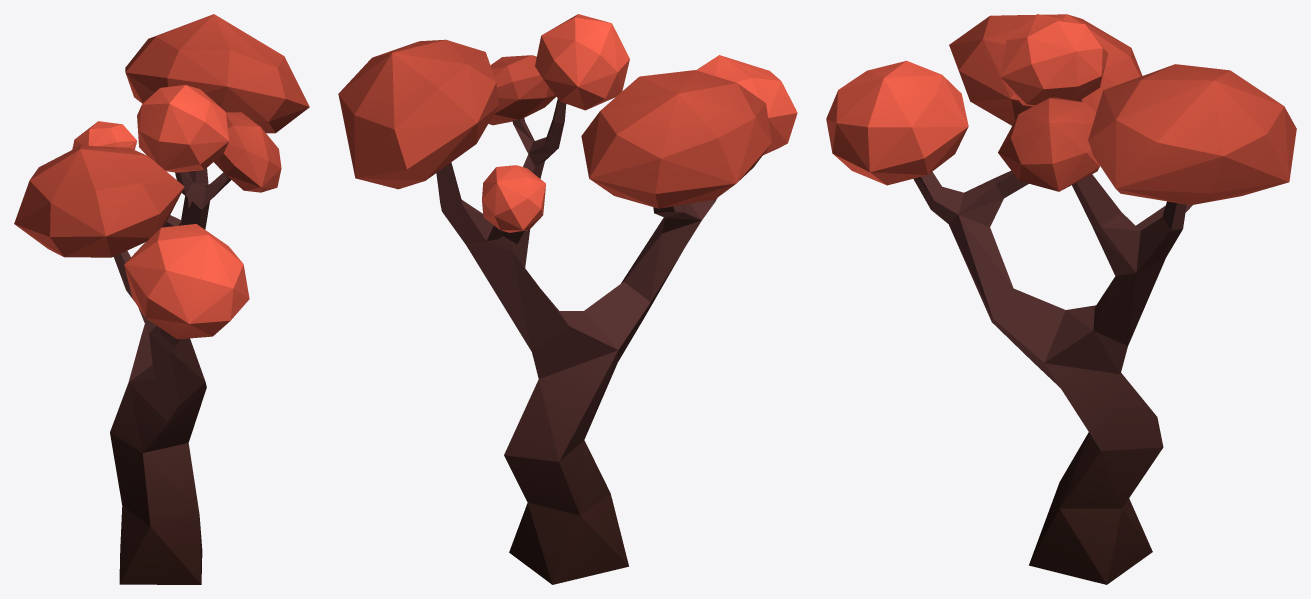
Rendered from RedTree4.fbx.
3 renders of one model, left to right at view 1: azimuth 30°, elevation 25°; view 2: azimuth 150°, elevation 25°; view 3: azimuth 270°, elevation 25°, orthographic. The views are drawn at different scales.
Visible parts, largest first — view 1: RedTree4; view 2: RedTree4; view 3: RedTree4.
Boxes of the visible parts, bbox=[...] form: RedTree4: bbox=[14, 14, 309, 584]; RedTree4: bbox=[338, 14, 797, 584]; RedTree4: bbox=[826, 14, 1296, 584].
Bounding box in the file's own units: 285 × 429 × 337.
